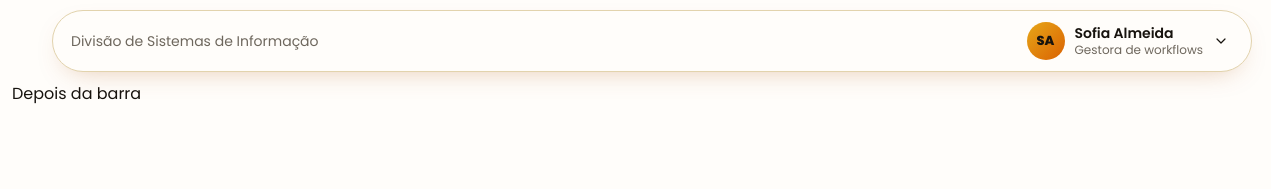
Test: Topbar › opens an account menu whose only action is «Terminar sessão»
Click the button named "menu da conta" at coordinates (1133, 41), box [1022,17,1243,65]
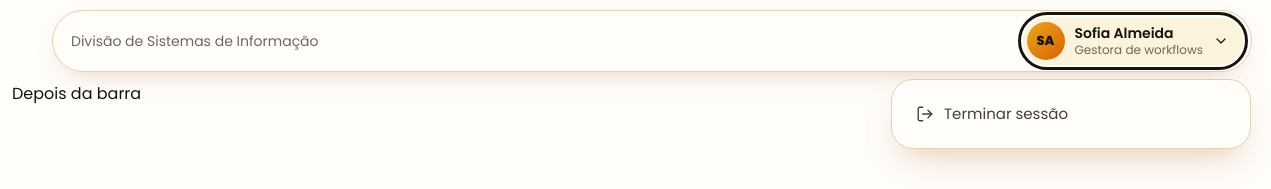
Result: the button named "menu da conta" is expanded at [1022,17,1243,65]
Result: the buttons read "Terminar sessão", in this order at [904,92,1238,136]
